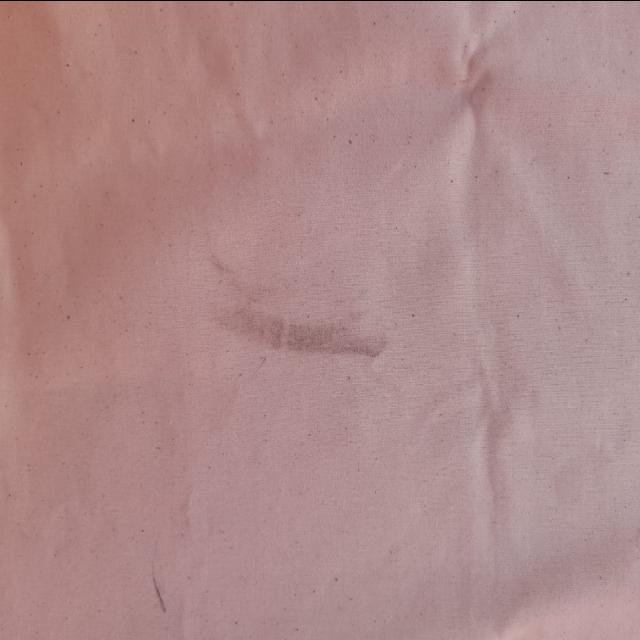taaaches: (196, 260, 400, 386), (130, 567, 176, 633)
